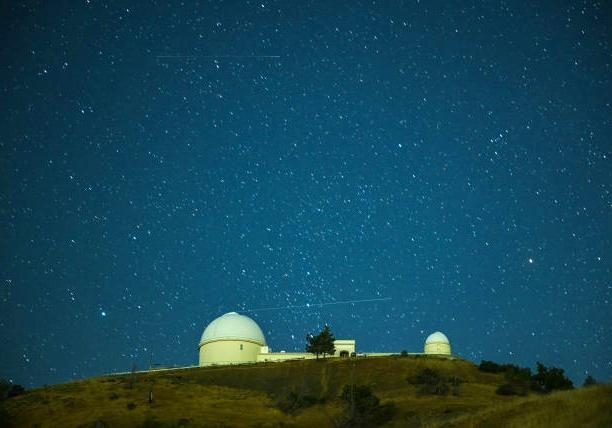meteorite: (249, 288, 405, 315), (149, 49, 287, 64)
